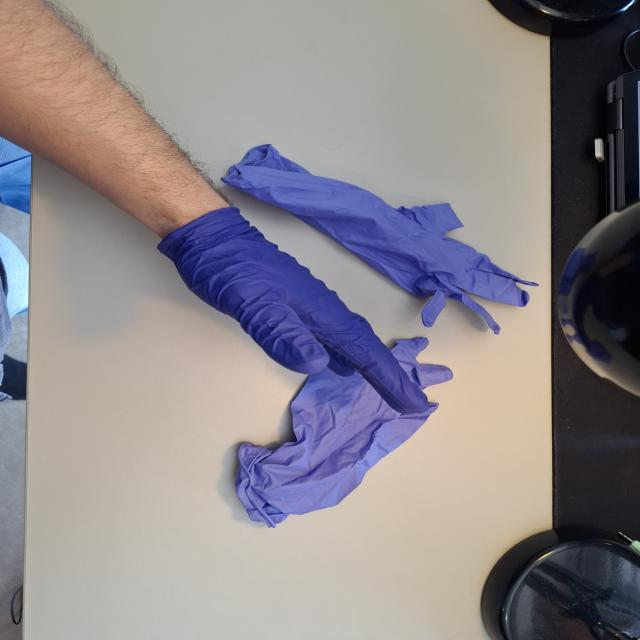glove_on: (153, 203, 432, 416)
